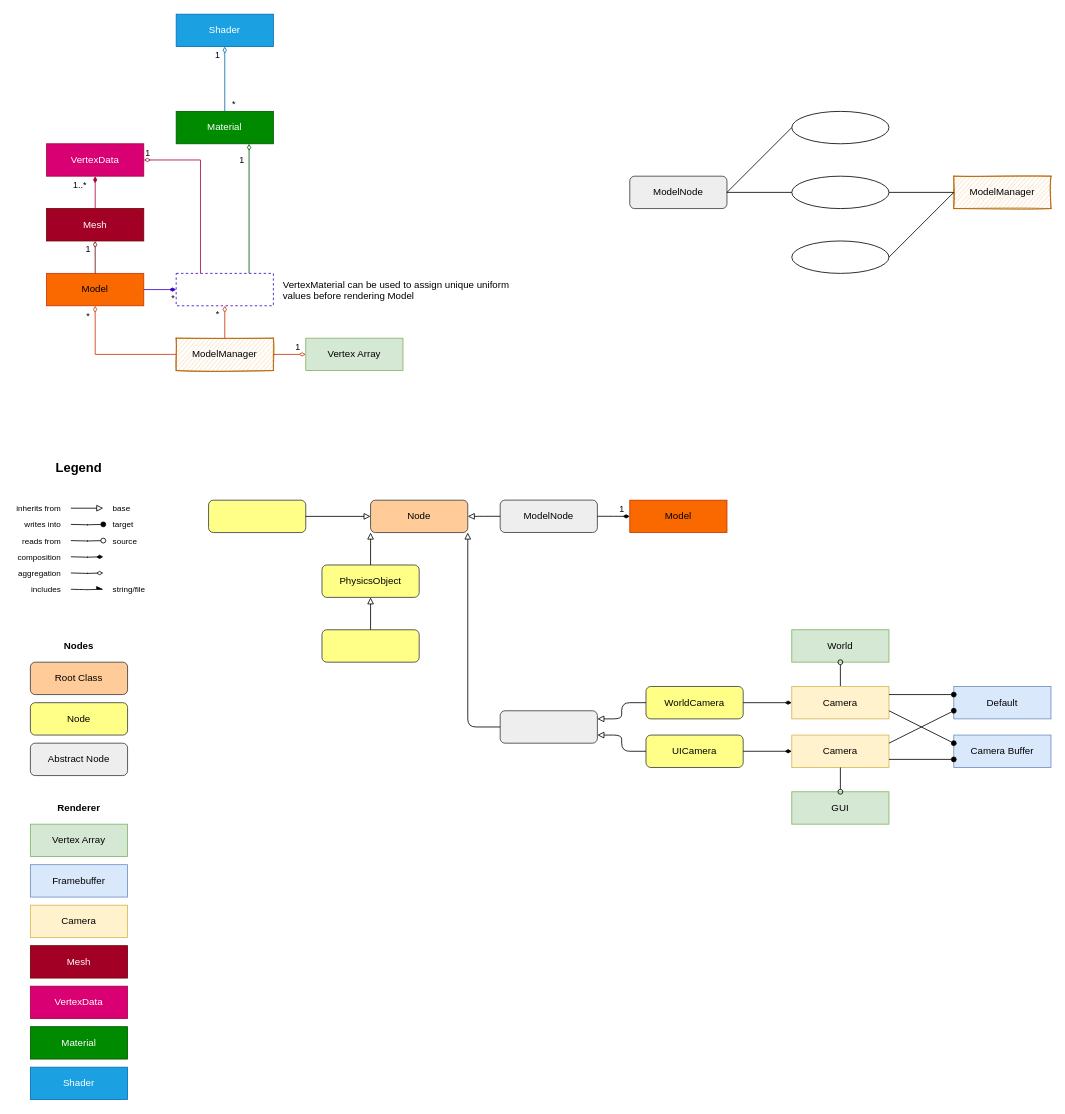
Some shapes in this 1065 by 1114 pixel diagram are drawn without their labels. Each missing label, with the centre of its shape:
"add Model to VAO" belongs at pixel 840 256.
"add Model to World" belongs at pixel 840 192.
"CameraNode" belongs at pixel 548 726.
"create Model" belongs at pixel 840 127.
"DynamicObject" belongs at pixel 370 645.
"Sprite" belongs at pixel 257 516.
"VertexMaterial" belongs at pixel 224 289.
